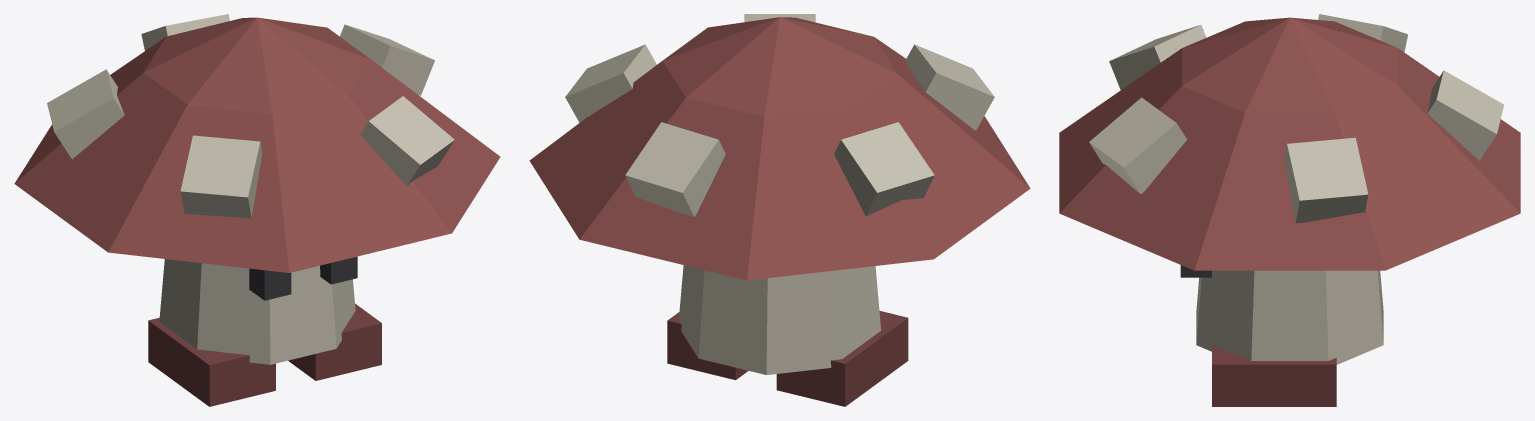
File: shroom.glb
The picture shows the model from 3 angles, left to right: view 1: azimuth 30°, elevation 25°; view 2: azimuth 150°, elevation 25°; view 3: azimuth 270°, elevation 25°; orthographic projection. The views are drawn at different scales.
Visible parts, largest first — view 1: shroom; view 2: shroom; view 3: shroom.
Part boxes in pixels (x1,y1,x2,y2): shroom: (14,14,500,406); shroom: (529,14,1030,406); shroom: (1059,14,1520,406).
Bounding box in the file's own units: 0.5913 × 0.49 × 0.5913.
